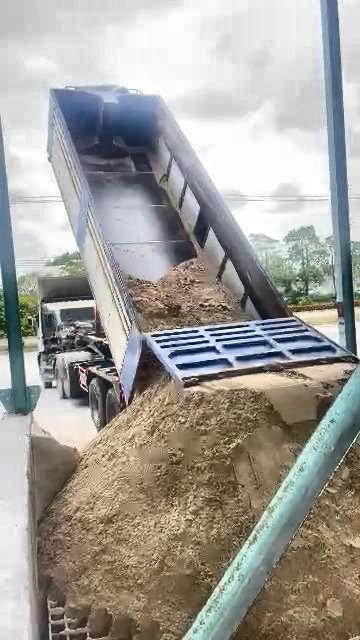sand: (40, 348, 314, 639), (236, 444, 360, 639), (128, 258, 250, 331), (227, 365, 347, 424), (30, 422, 79, 520)
